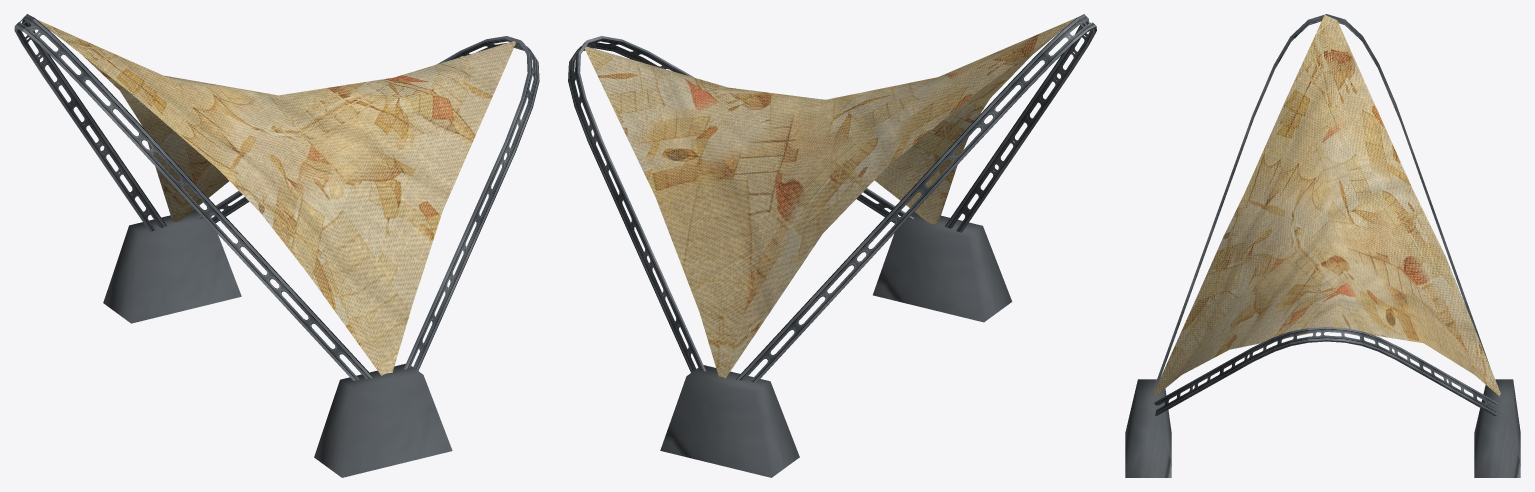
Rendered from Sail_Beartrap1.fbx.
3 renders of one model, left to right at view 1: azimuth 30°, elevation 25°; view 2: azimuth 150°, elevation 25°; view 3: azimuth 270°, elevation 25°, orthographic. The views are drawn at different scales.
Parts seen in each view (by area): view 1: SailBit.000, SailBit.001; view 2: SailBit.000, SailBit.001; view 3: SailBit.000, SailBit.001.
Part boxes in pixels (x1,y1,x2,y2): SailBit.000: [37, 19, 516, 375]; SailBit.001: [14, 14, 539, 477]; SailBit.000: [585, 18, 1076, 378]; SailBit.001: [568, 14, 1096, 477]; SailBit.000: [1153, 15, 1500, 396]; SailBit.001: [1125, 14, 1520, 477].
Bounding box in the file's own units: 311 × 243 × 253.
